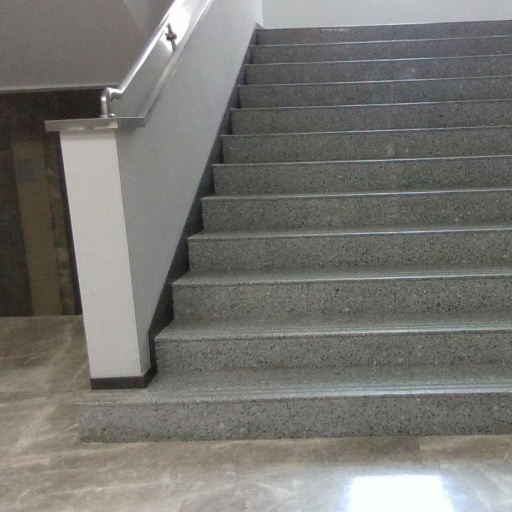Stairs: (81, 22, 512, 441)
